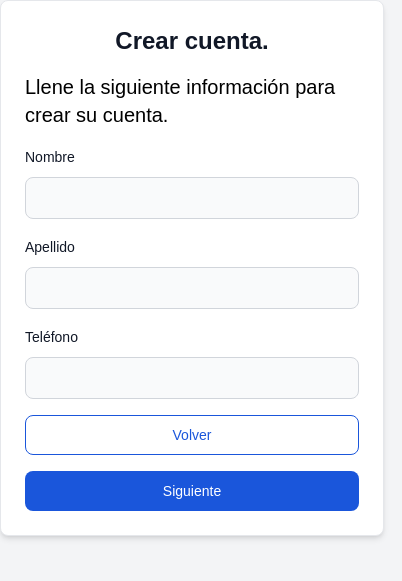
Test: PersonalInformation › shows validation error for empty lastName field
Type "John" into the field labelled "Nombre".
click(192, 198); type("John")  # box [25,177,359,219]
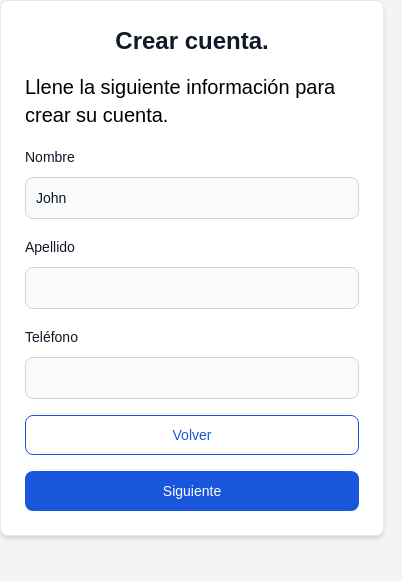
Type "1234567890" into the field labelled "Teléfono".
click(192, 378); type("1234567890")  # box [25,357,359,399]
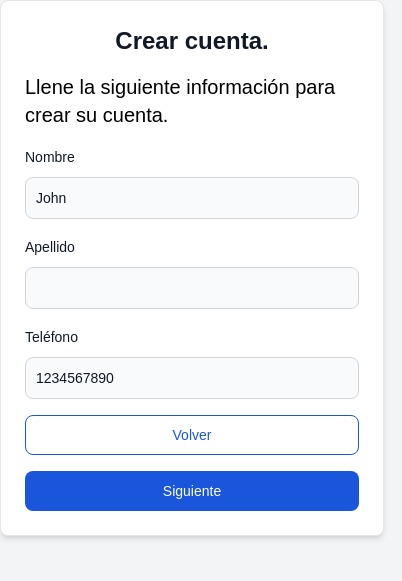
Click the button "Siguiente".
click(192, 491)  # box [25,471,359,511]
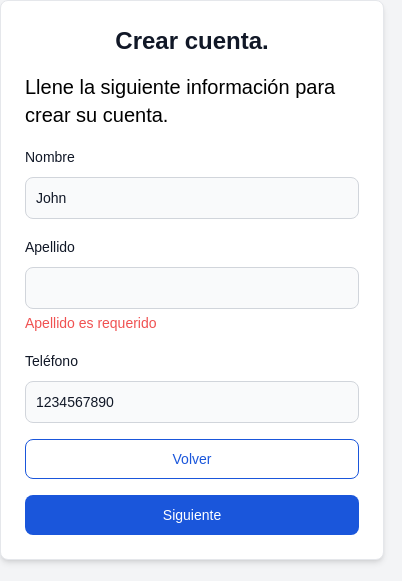
Expected: the text "Apellido es requerido" is shown, [25,315,156,331]
